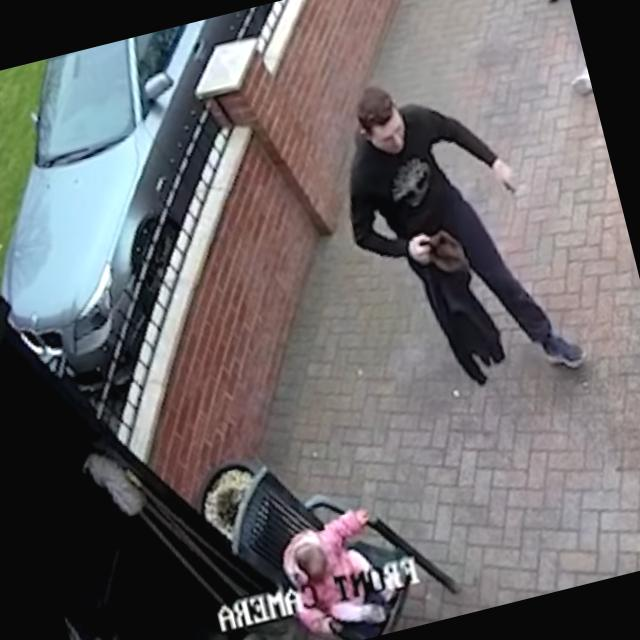person: (318, 50, 589, 412), (272, 501, 408, 640)
